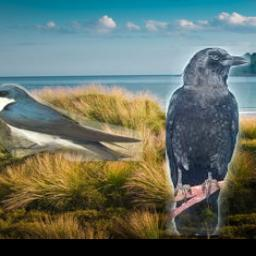Crow: (166, 46, 251, 235)
Swallow: (0, 84, 143, 162)
